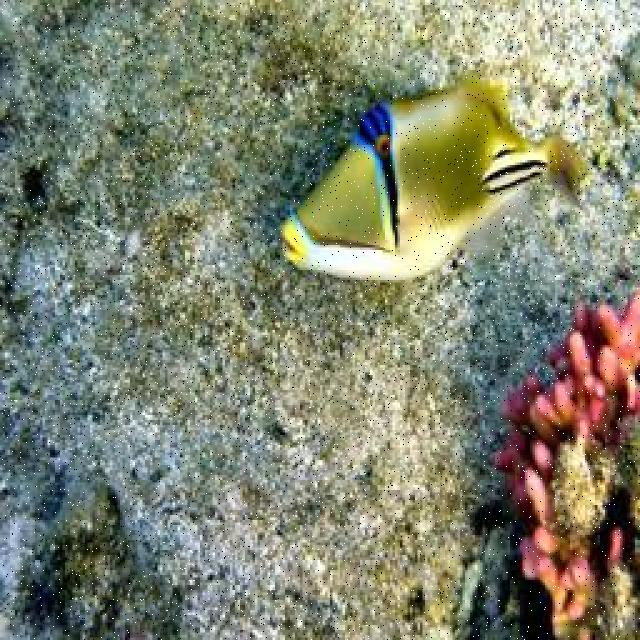fish: (280, 71, 589, 284)
reefs: (492, 287, 638, 636)
